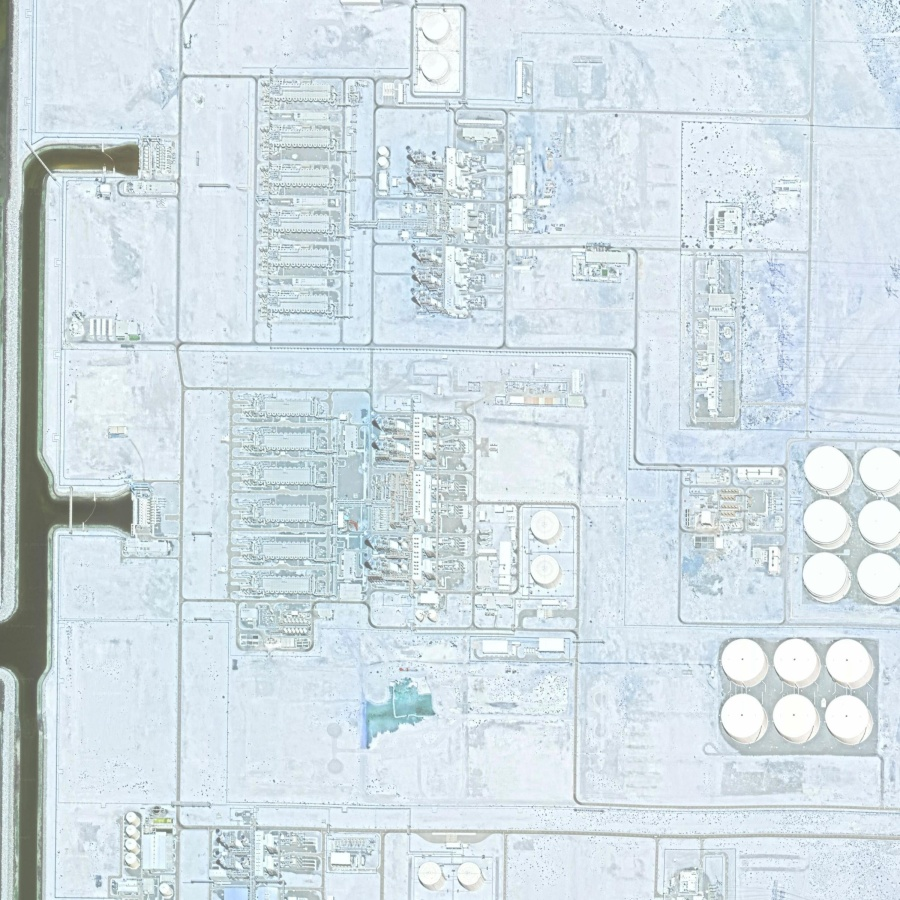PowerPlant: (214, 384, 576, 664)
